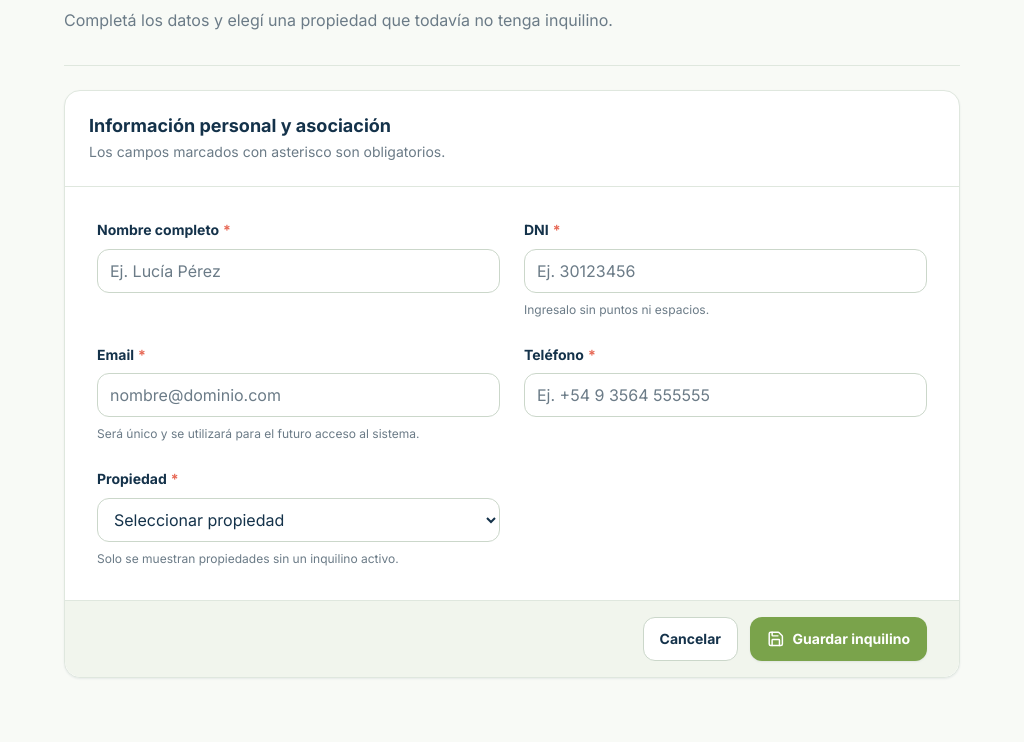
formulario de inquilino › muestra validaciones sin enviar datos incompletos
(page scrolled)
Expected: the dropdown labelled "Propiedad*" is shown, [97,498,500,542]
Click the button "Guardar inquilino".
click(838, 639)  # box [750,617,927,661]
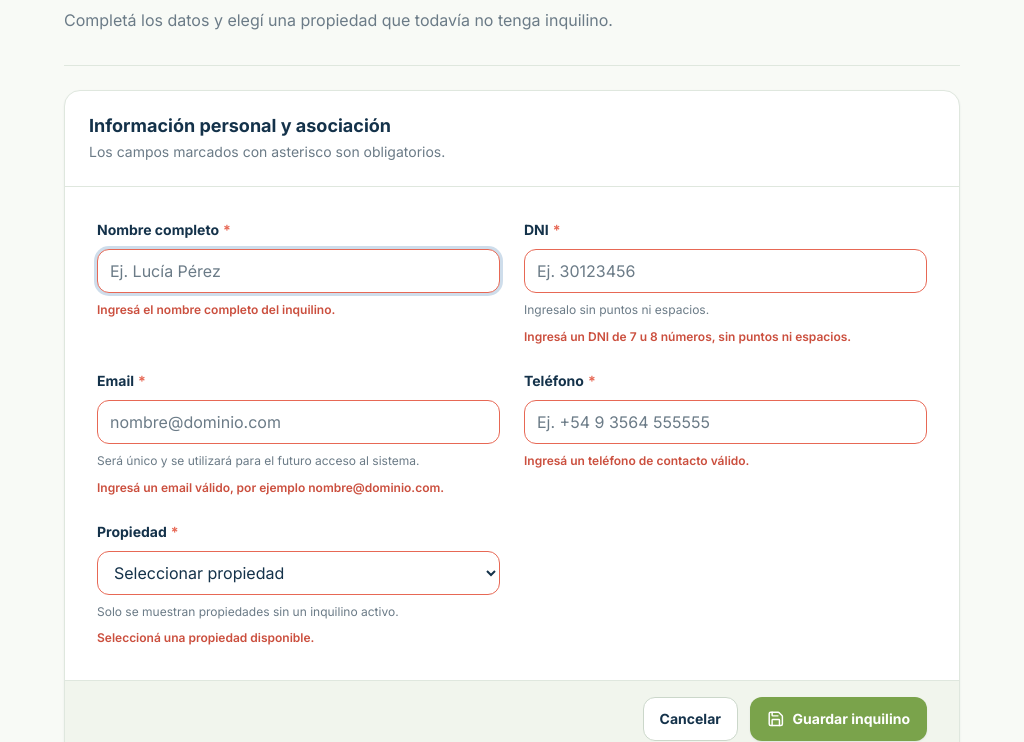
Now the text "Ingresá el nombre completo del inquilino." is shown, box [97,302,335,317]
